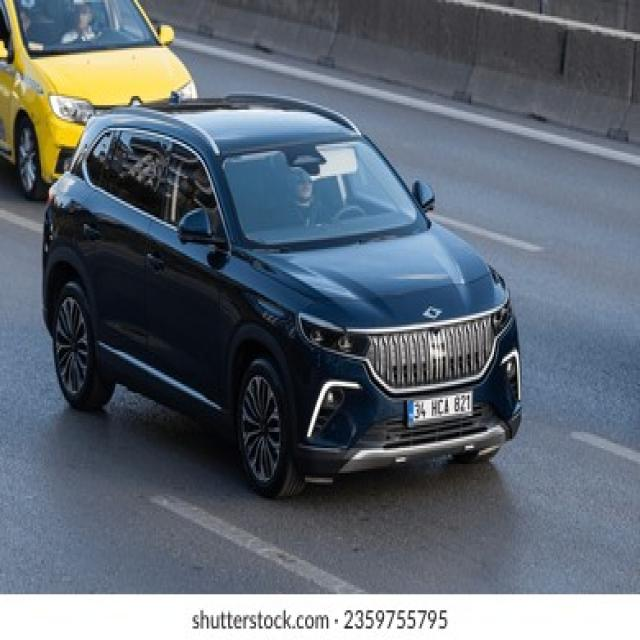togg: (421, 304, 443, 323)
